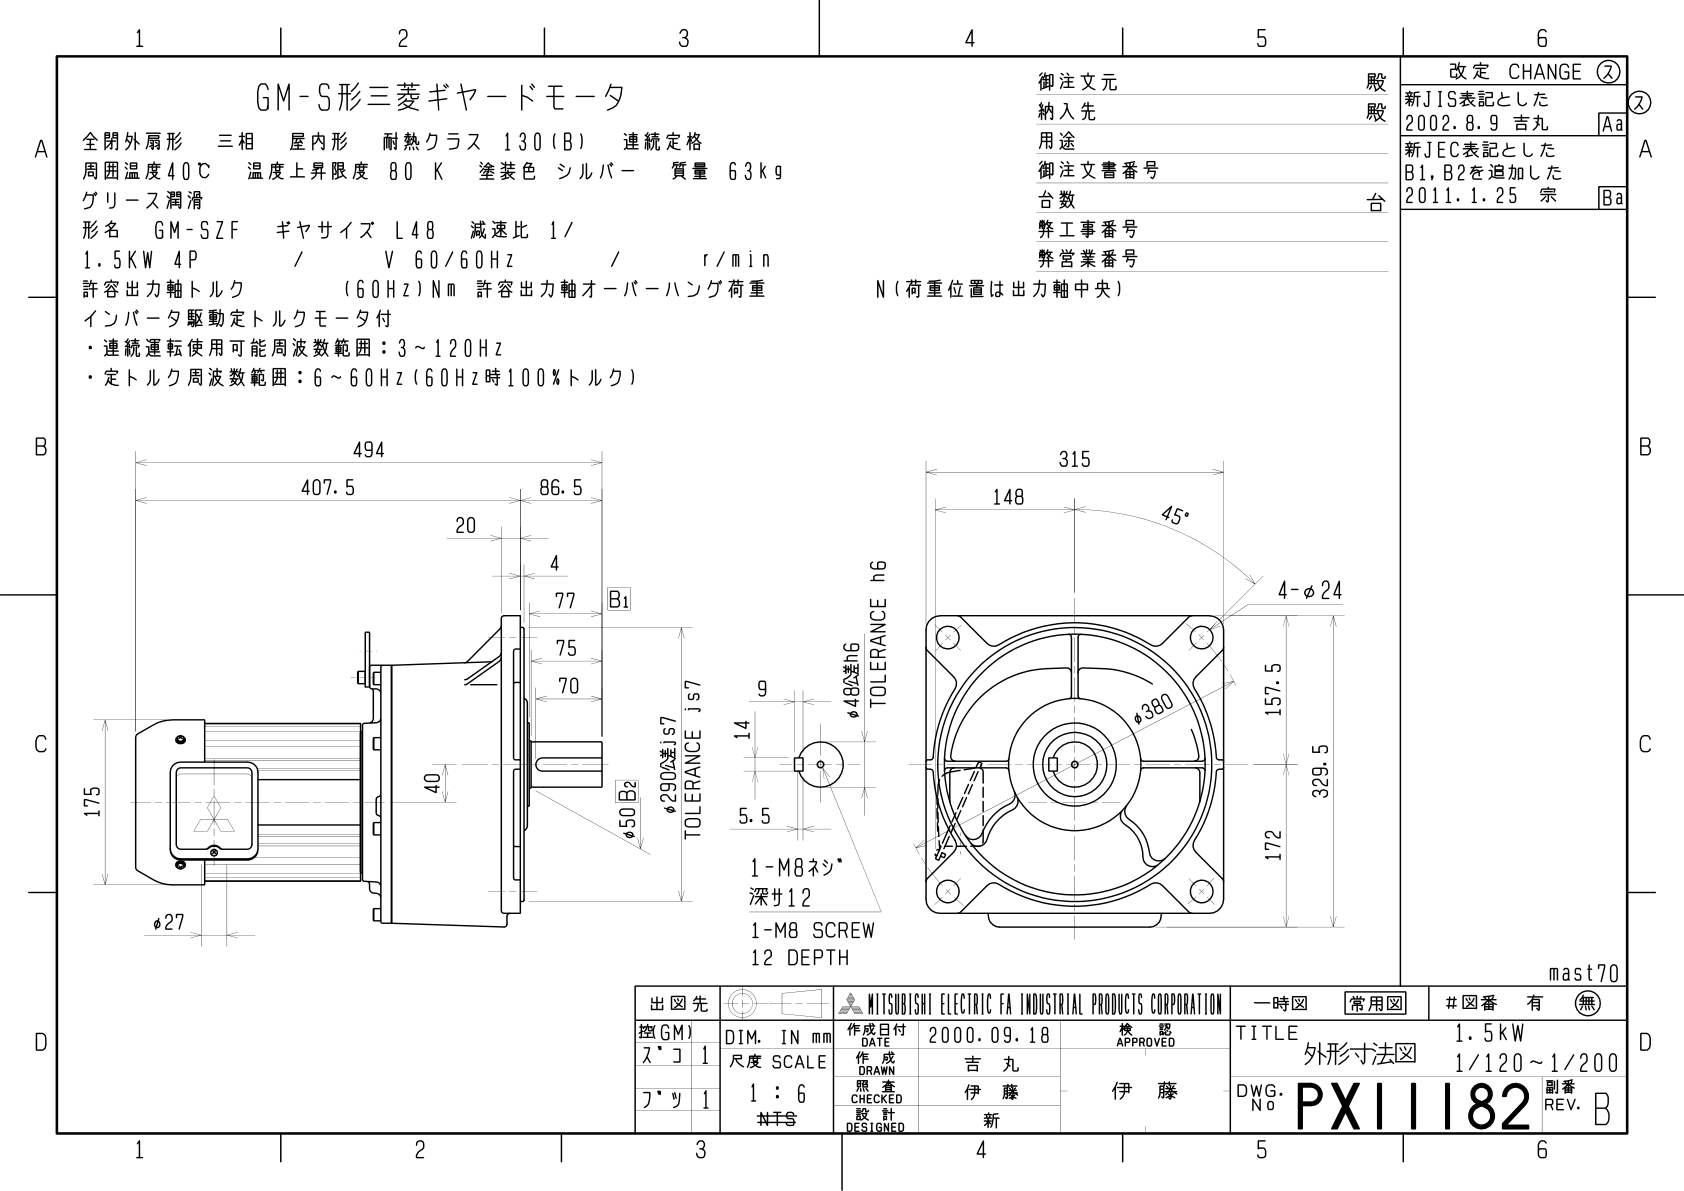GM_S_インバタ屋内＿三相_フランジ: (1, 1, 1666, 1172)
